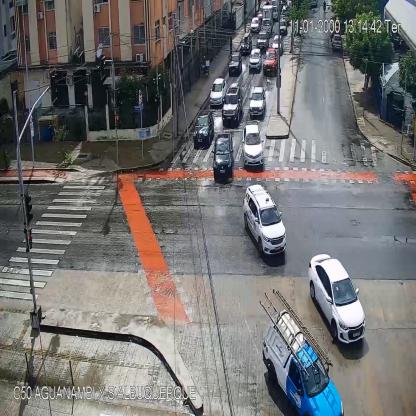car: (264, 311, 343, 416), (308, 252, 365, 342), (244, 183, 287, 258), (212, 134, 233, 180), (241, 125, 263, 168), (221, 84, 242, 122), (193, 112, 213, 148), (249, 88, 266, 119), (263, 48, 279, 76), (211, 76, 227, 102), (249, 47, 262, 72), (229, 54, 242, 76), (257, 30, 268, 51), (241, 33, 251, 54), (332, 34, 343, 50), (272, 36, 282, 53), (278, 19, 288, 36), (250, 17, 260, 32)
motorbike: (200, 56, 210, 77), (323, 1, 327, 12)
truck: (262, 5, 273, 31)
